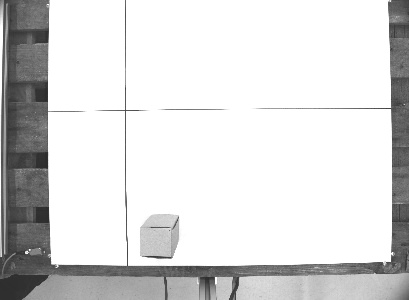b2: (137, 211, 182, 260)
